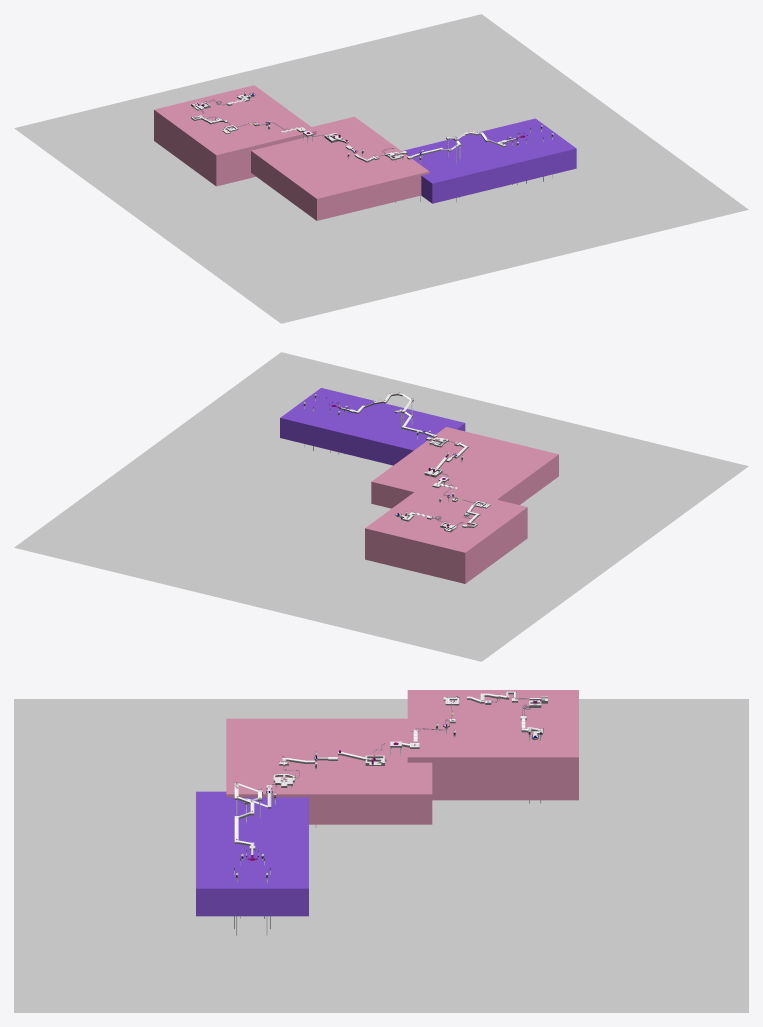
File: level1.obj
The picture shows the model from 3 angles, top to bottom: view 1: azimuth 30°, elevation 25°; view 2: azimuth 150°, elevation 25°; view 3: azimuth 270°, elevation 25°; orthographic projection. The views are drawn at different scales.
Visible parts, largest first — view 1: objSkyLayer, objQuader02, objQuader01, objQuader03; view 2: objSkyLayer, objQuader01, objQuader02, objQuader03; view 3: objSkyLayer, objQuader02, objQuader01, objQuader03.
Boxes of the visible parts, x1,y1,x2,y2 form: objSkyLayer: [14, 14, 748, 323]; objQuader02: [251, 116, 429, 220]; objQuader01: [154, 85, 316, 186]; objQuader03: [402, 118, 576, 203]; objSkyLayer: [14, 352, 748, 661]; objQuader01: [365, 482, 527, 583]; objQuader02: [371, 427, 558, 508]; objQuader03: [280, 388, 465, 465]; objSkyLayer: [14, 699, 748, 1012]; objQuader02: [226, 718, 432, 824]; objQuader01: [407, 690, 578, 800]; objQuader03: [196, 791, 308, 916].
Size of the model in its own units: 1893 by 436 by 1873.
